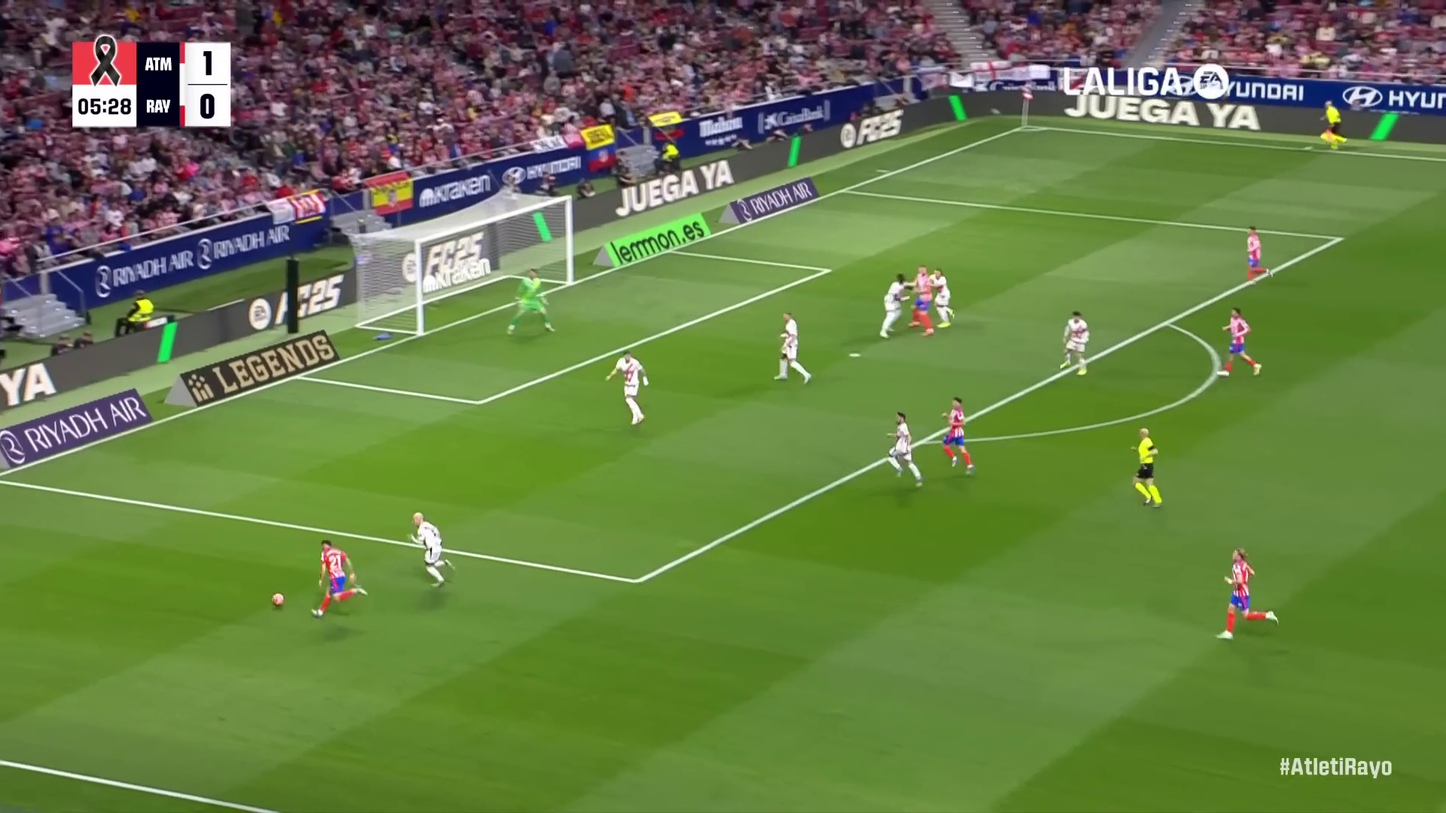ball: (269, 592, 287, 610)
player: (1213, 546, 1282, 643), (308, 539, 370, 619), (602, 349, 654, 427), (407, 511, 458, 588), (880, 409, 927, 490), (504, 268, 557, 339), (935, 395, 979, 476), (1216, 306, 1264, 380), (769, 310, 814, 386), (876, 271, 911, 341), (1058, 309, 1093, 377), (907, 265, 937, 338), (1240, 225, 1274, 284), (930, 268, 958, 329)
referee: (1126, 427, 1168, 509), (1317, 100, 1351, 155)
